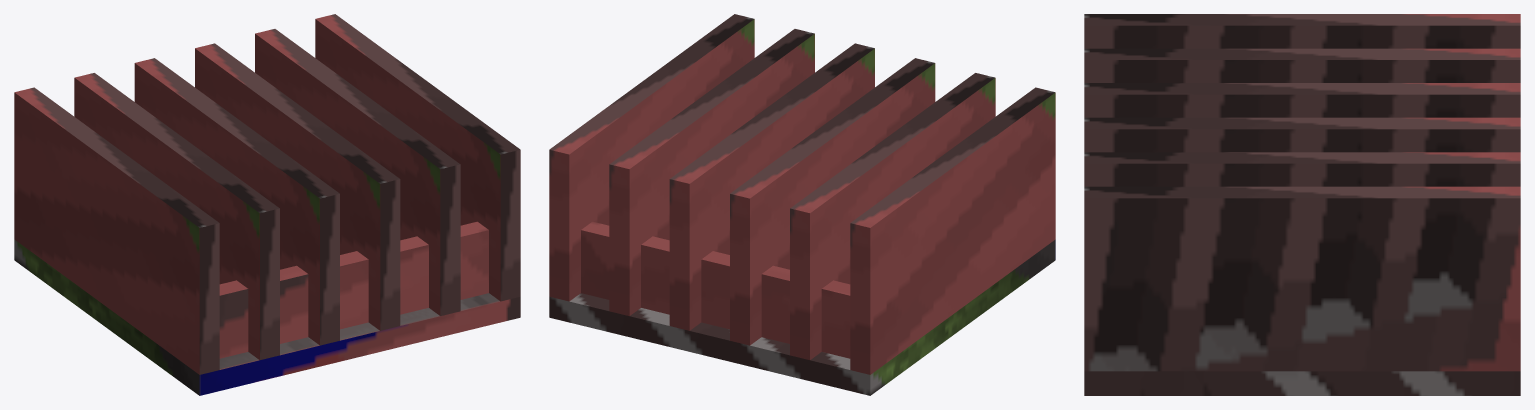
File: heat_sink.obj
3 renders of one model, left to right at view 1: azimuth 30°, elevation 25°; view 2: azimuth 150°, elevation 25°; view 3: azimuth 270°, elevation 25°, orthographic. The views are drawn at different scales.
Bounding box in the file's own units: 1 × 0.5 × 1.
